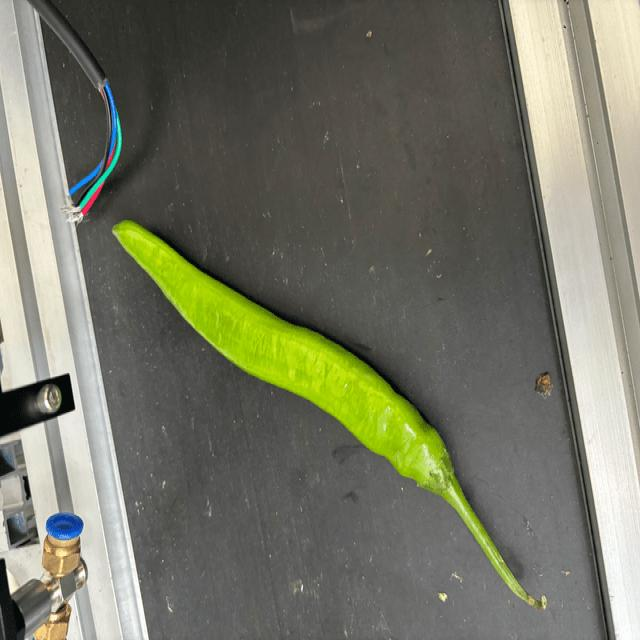chili: (108, 219, 455, 498)
